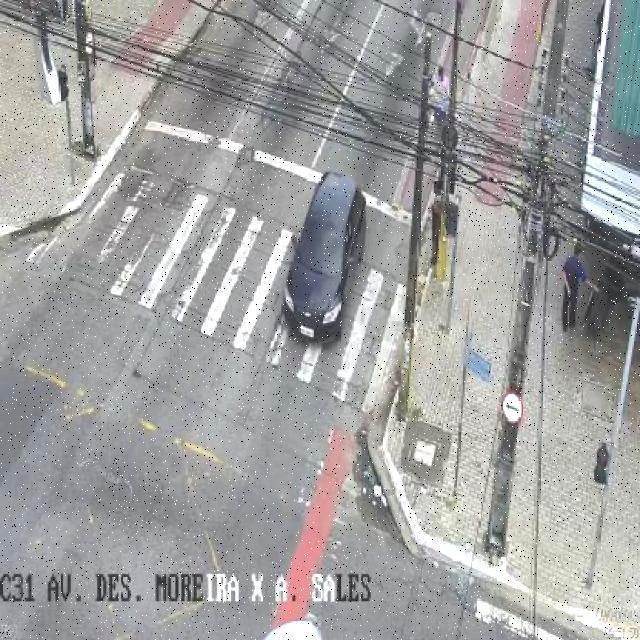Car: (264, 153, 377, 350)
